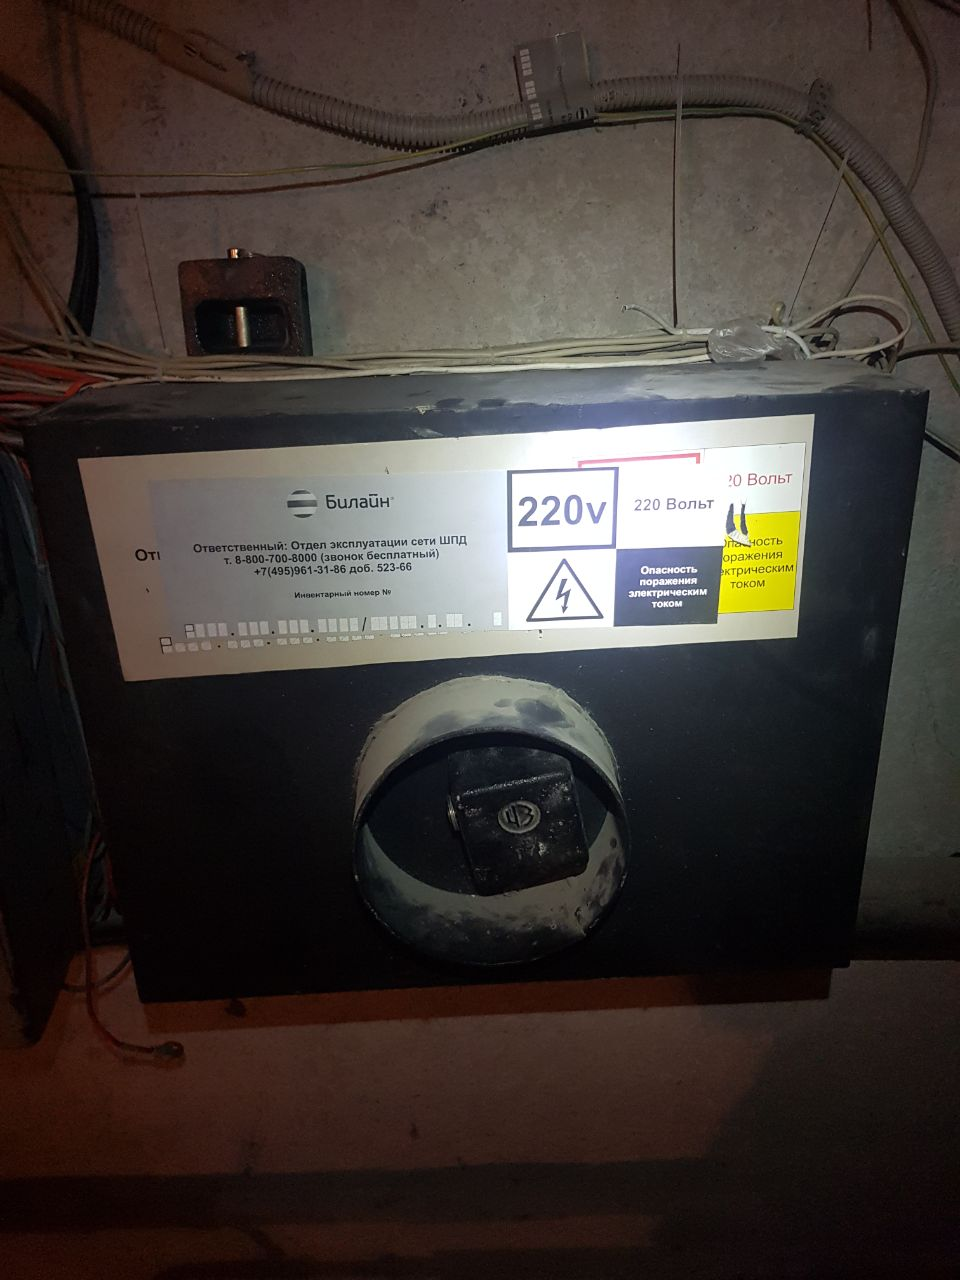shta-3: (0, 347, 933, 952)
